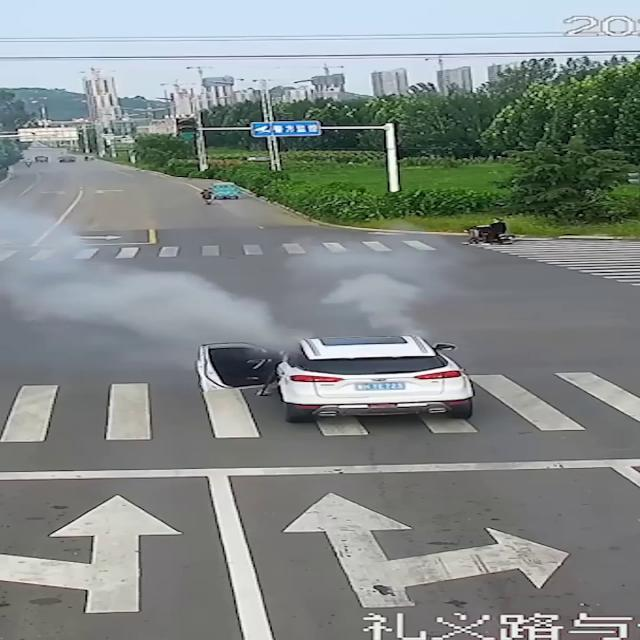Smoke: (2, 218, 466, 350)
